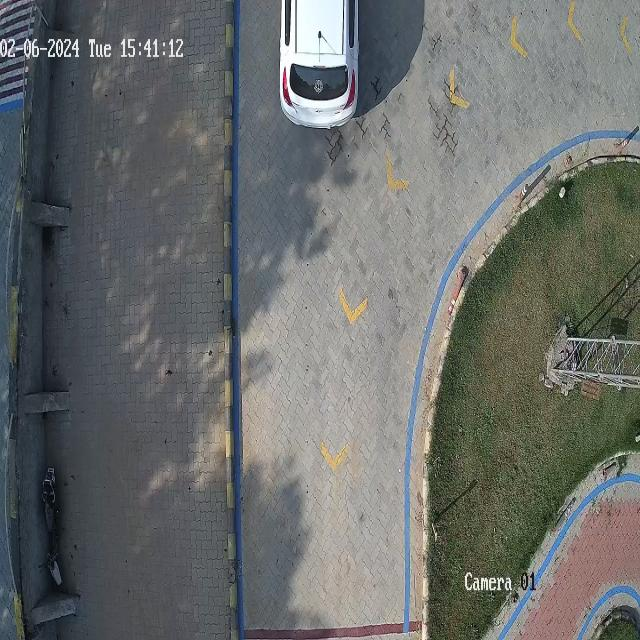car: (280, 0, 359, 129)
